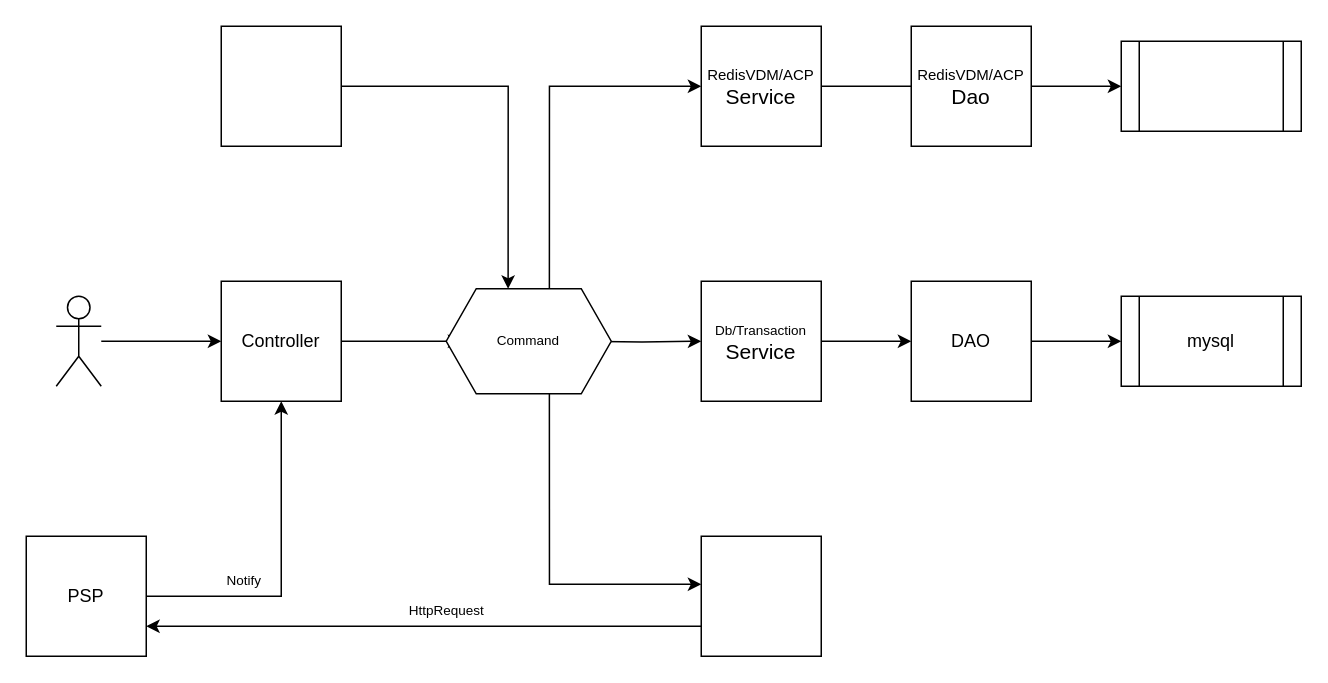
The diagram is 1328 pixels wide and 683 high, and some of its shapes have lost their labels. The centre of each missing label's shape, as x and y in pixels:
Actor: (x=78, y=340)
Job: (x=280, y=85)
PspService: (x=760, y=595)
RedisVDM/ACP: (x=1210, y=85)
